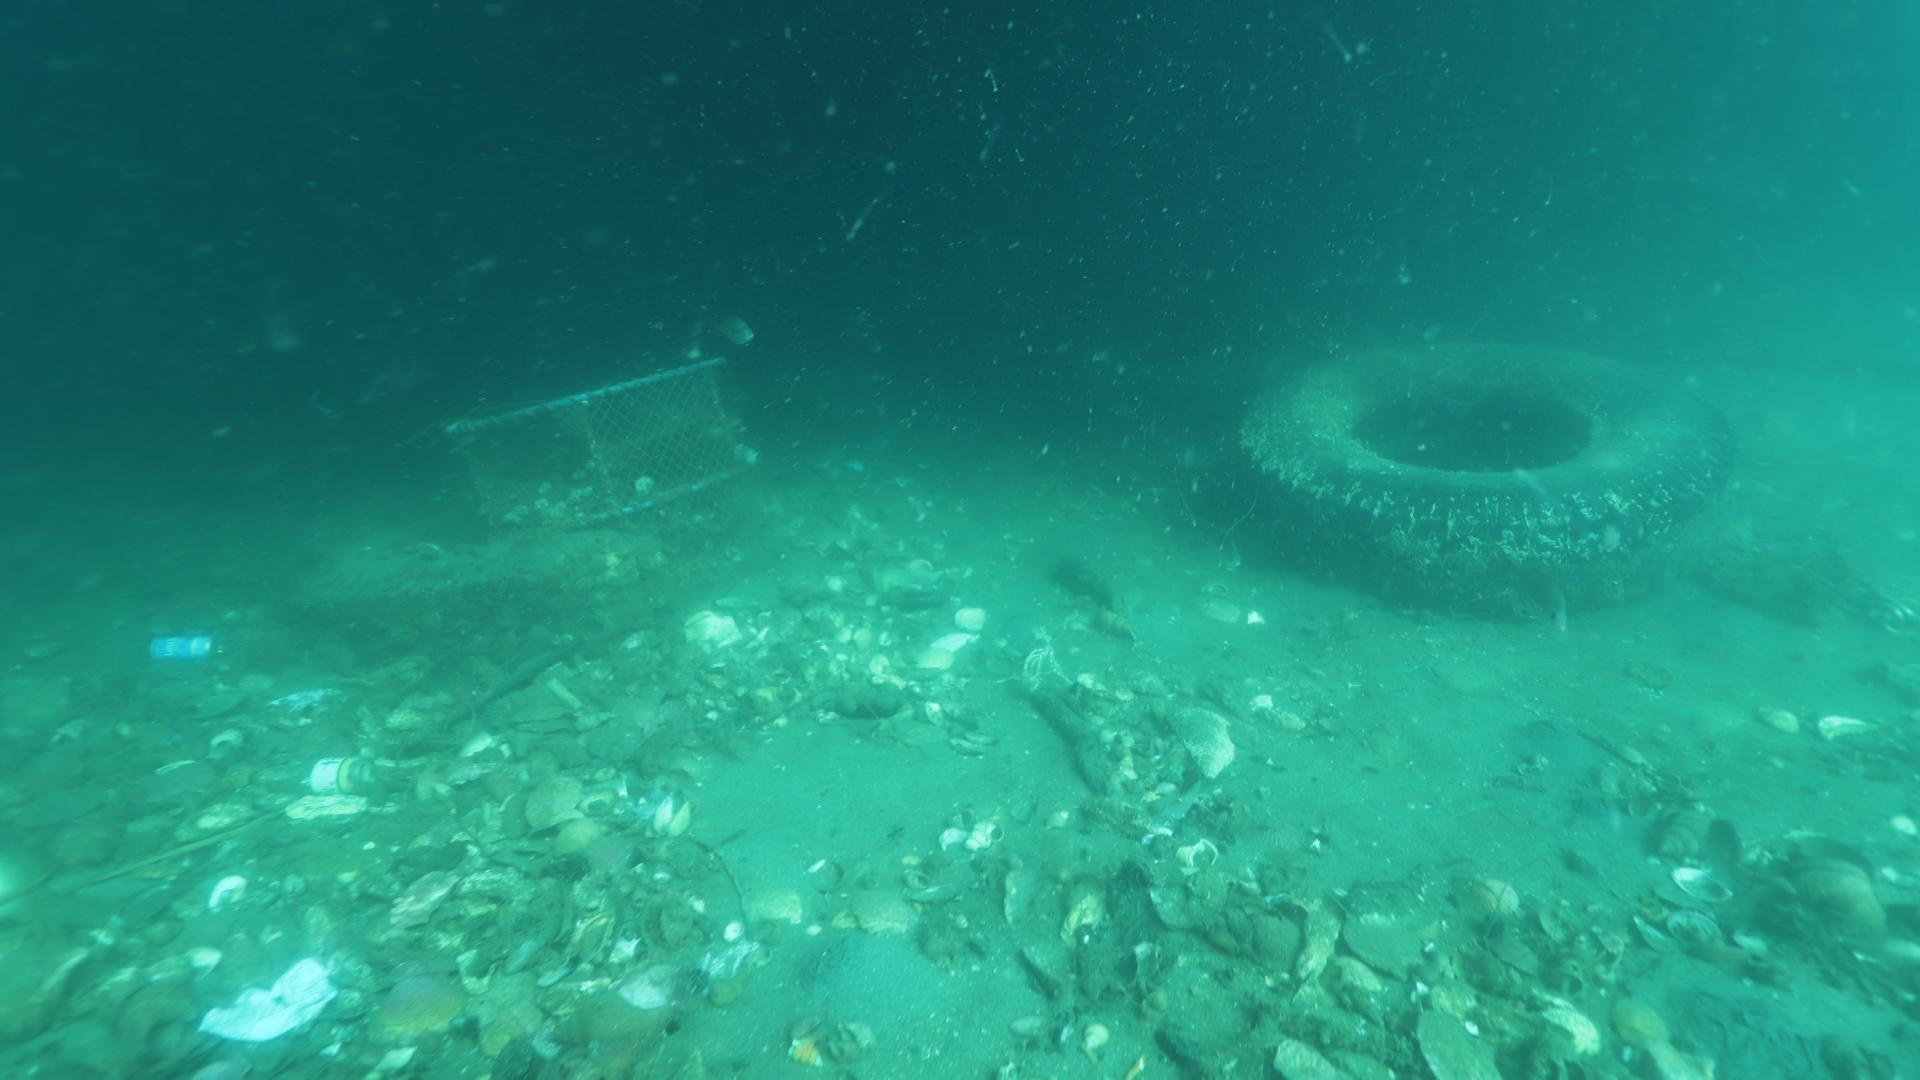circular fish trap: (443, 353, 761, 549)
tire: (1233, 339, 1743, 617)
